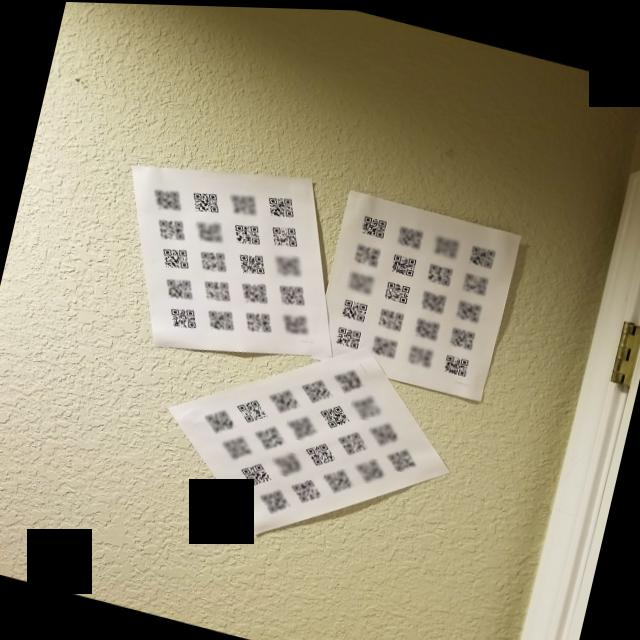QR_CODE: (196, 401, 240, 439), (327, 360, 371, 397), (212, 428, 256, 465), (161, 299, 203, 337), (146, 180, 189, 216), (232, 455, 276, 490), (192, 243, 235, 278), (383, 441, 427, 475), (463, 236, 505, 271), (408, 307, 448, 343), (152, 210, 192, 246), (238, 303, 278, 339), (200, 302, 241, 337), (252, 481, 293, 516), (232, 246, 274, 280), (196, 273, 238, 307), (263, 188, 301, 225), (225, 186, 264, 222), (160, 271, 200, 306), (276, 305, 316, 340), (264, 382, 304, 417), (250, 419, 290, 454), (300, 434, 340, 469), (283, 473, 325, 506), (365, 414, 404, 449), (354, 208, 394, 242), (228, 217, 268, 251), (190, 215, 230, 249), (155, 241, 195, 275), (296, 371, 336, 405), (348, 389, 388, 423), (332, 426, 372, 460), (350, 452, 390, 486), (233, 393, 272, 427), (270, 248, 310, 281), (274, 277, 314, 310), (268, 446, 308, 479), (188, 184, 226, 218), (316, 399, 354, 433), (283, 408, 321, 442), (265, 218, 304, 251), (429, 227, 466, 261), (392, 219, 430, 252), (320, 462, 358, 495), (373, 302, 411, 334), (366, 329, 404, 361), (421, 257, 460, 288), (330, 320, 366, 353), (445, 320, 481, 352), (439, 346, 475, 378), (237, 277, 274, 308), (458, 265, 492, 298), (336, 292, 372, 323), (387, 248, 422, 279), (417, 283, 452, 314), (381, 275, 416, 306), (402, 338, 437, 369), (344, 265, 378, 296), (451, 293, 485, 323), (350, 239, 384, 268)
